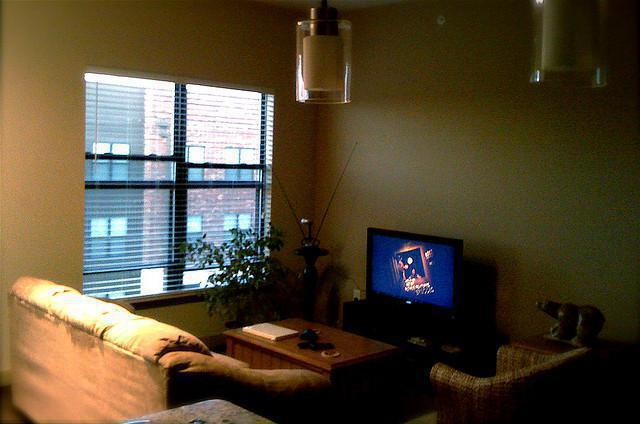Matera: (196, 219, 297, 354)
